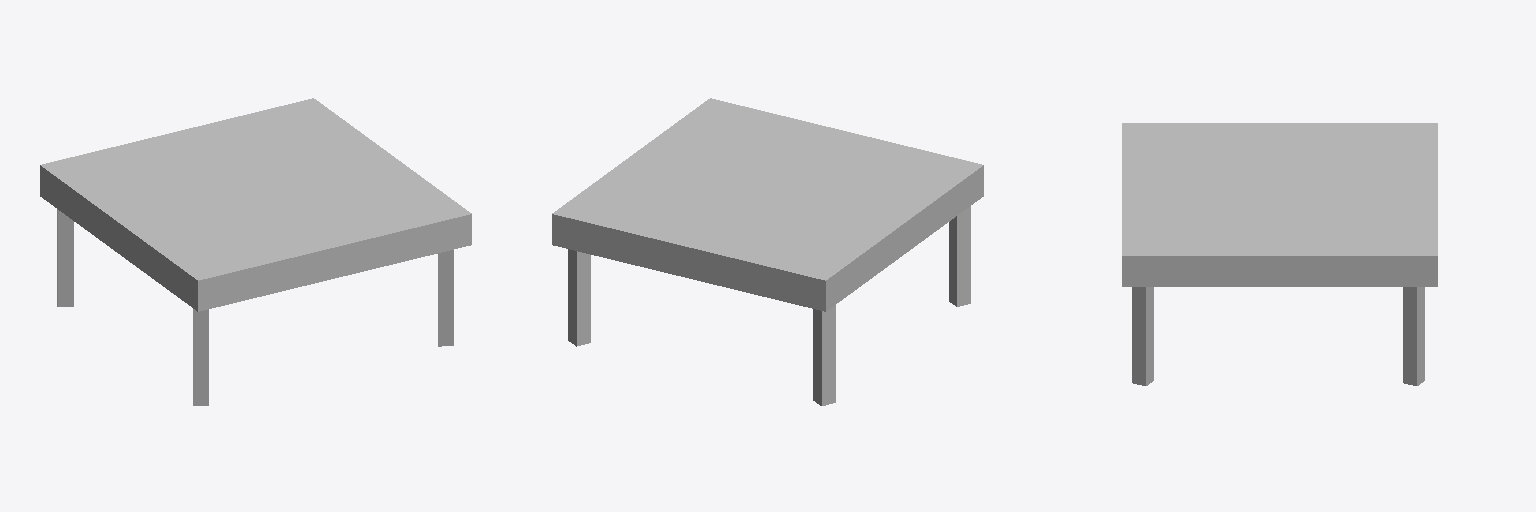
The model's file is kitchentable.obj.
3 views of the same model, side by side, from view 1: azimuth 30°, elevation 25°; view 2: azimuth 150°, elevation 25°; view 3: azimuth 270°, elevation 25° (orthographic).
Parts seen in each view (by area): view 1: Cube_Cube.001; view 2: Cube_Cube.001; view 3: Cube_Cube.001.
Part boxes in pixels (bbox=[...]): Cube_Cube.001: bbox=[40, 98, 471, 405]; Cube_Cube.001: bbox=[552, 98, 983, 405]; Cube_Cube.001: bbox=[1122, 123, 1437, 385].
Size of the model in its own units: 6.32 by 2.94 by 6.32.